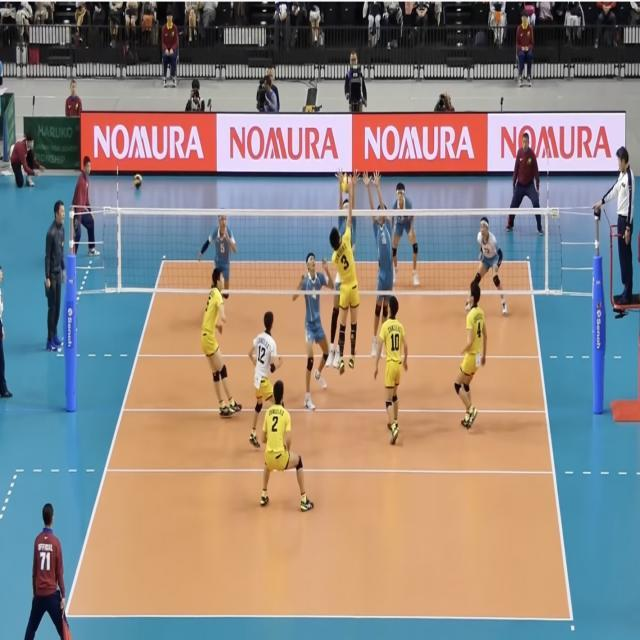spike: (327, 168, 362, 376)
